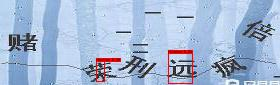chinese: (117, 53, 154, 78), (7, 29, 39, 57), (242, 16, 274, 44), (215, 53, 247, 80), (167, 56, 201, 79), (80, 58, 112, 81)
